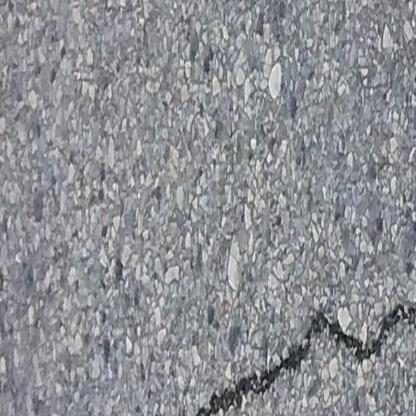Cracks: (143, 292, 416, 416)
